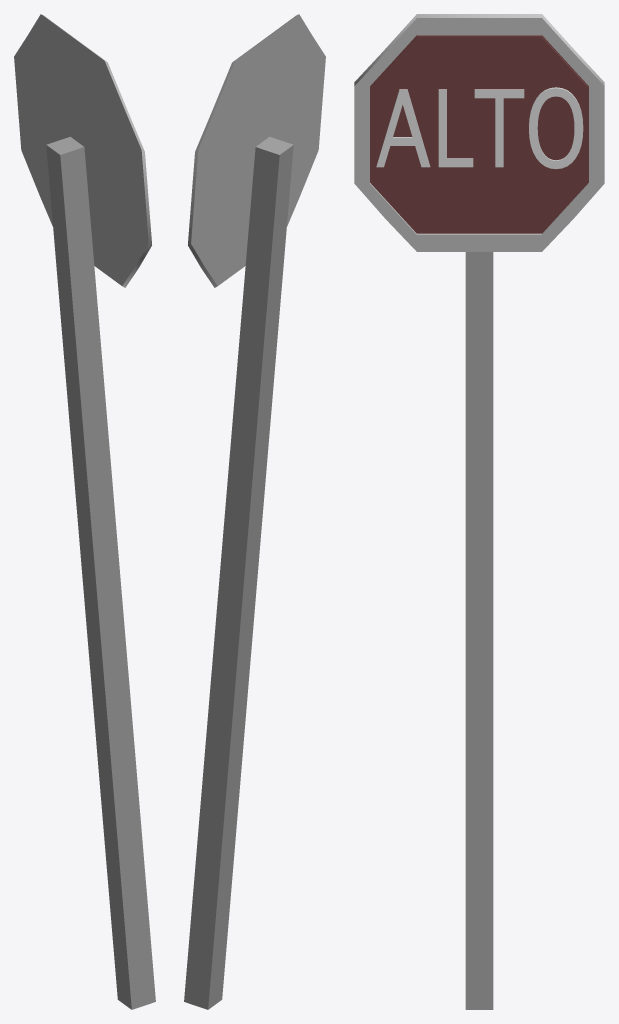
The model's file is ALTO.fbx.
3 views of the same model, side by side, from view 1: azimuth 30°, elevation 25°; view 2: azimuth 150°, elevation 25°; view 3: azimuth 270°, elevation 25° (orthographic).
Parts seen in each view (by area): view 1: pCube5; view 2: pCube5; view 3: pCube5.
Part boxes in pixels (x1,y1,x2,y2): pCube5: (14,14,155,1009); pCube5: (184,14,325,1009); pCube5: (354,14,604,1009).
Size of the model in its own units: 0.4328 by 4.24 by 1.
